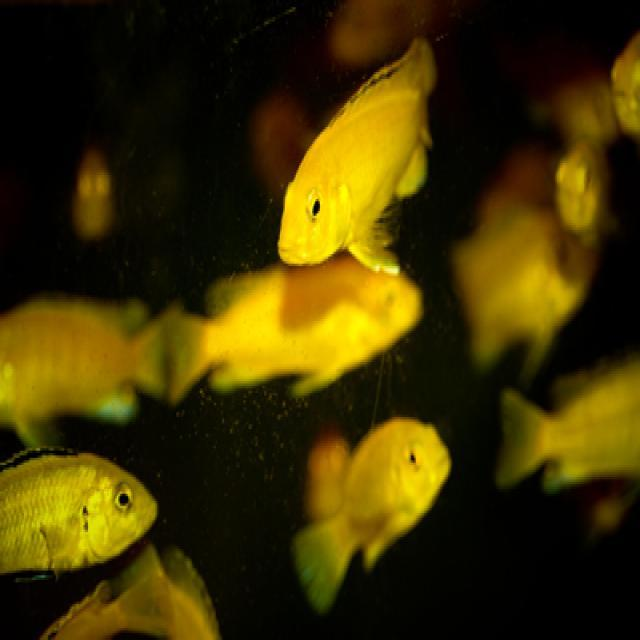YellowCichlid: (278, 407, 468, 638), (258, 45, 436, 272), (176, 279, 434, 390), (490, 367, 640, 553), (0, 424, 161, 580), (0, 278, 153, 418), (536, 121, 631, 249), (61, 147, 136, 250), (601, 19, 640, 130)
